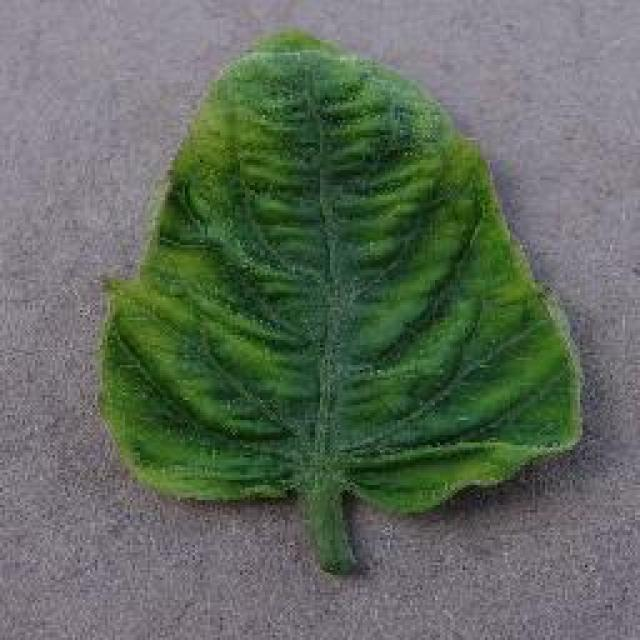Tomato yellow virus leaf: (100, 23, 588, 517)
